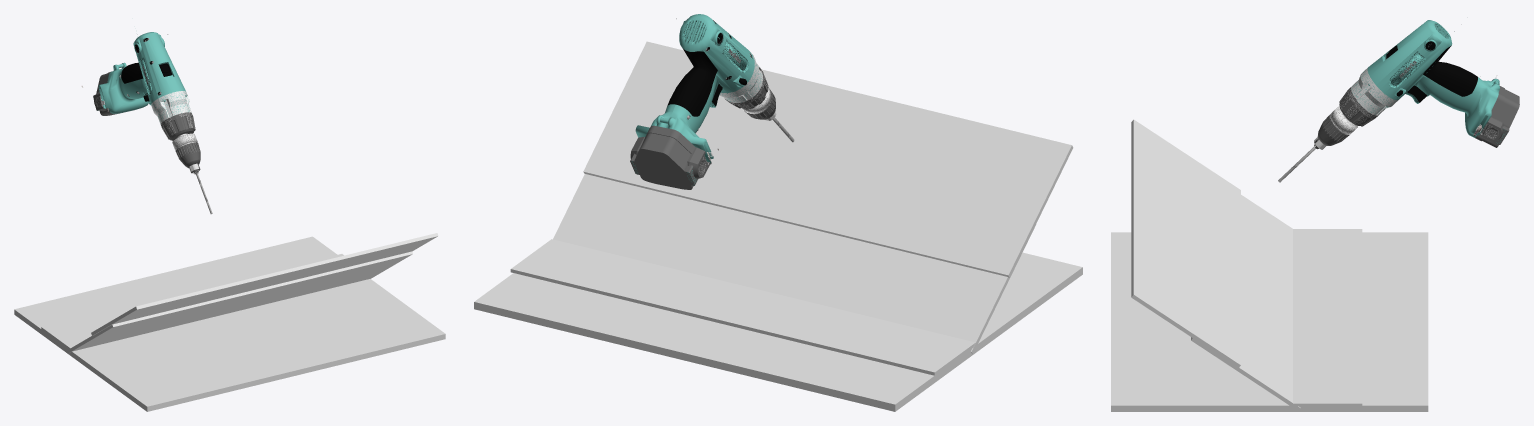
Rendered from PEÇA-05.dae.
3 views of the same model, side by side, from view 1: azimuth 30°, elevation 25°; view 2: azimuth 150°, elevation 25°; view 3: azimuth 270°, elevation 25° (orthographic). The views are drawn at different scales.
Visible parts, largest first — view 1: Cube, Cube.001, Cube.002, group_28.001, Cube.003, group_25, group_27.003, group_26; view 2: Cube.002, Cube.001, Cube, Cube.003, group_28.001, group_16, group_28.003, group_25; view 3: Cube, Cube.002, Cube.003, Cube.001, group_28.001, group_28.003, group_25, group_16, group_26.001, group_27.003, group_27.001.
Boxes of the visible parts, box(x1,y1,x2,y2) form: Cube: box(14, 236, 445, 411); Cube.001: box(67, 251, 412, 353); Cube.002: box(91, 233, 438, 335); group_28.001: box(98, 32, 185, 113); Cube.003: box(41, 254, 343, 349); group_25: box(151, 91, 191, 124); group_27.003: box(175, 142, 200, 168); group_26: box(163, 114, 195, 140); Cube.002: box(583, 41, 1073, 277); Cube.001: box(553, 174, 1036, 354); Cube: box(474, 252, 1082, 411); Cube.003: box(510, 239, 975, 375); group_28.001: box(635, 14, 754, 163); group_16: box(634, 133, 693, 189); group_28.003: box(667, 48, 715, 116); group_25: box(719, 52, 762, 102); Cube: box(1111, 232, 1428, 411); Cube.002: box(1131, 119, 1240, 367); Cube.003: box(1293, 229, 1362, 406); Cube.001: box(1191, 195, 1300, 410); group_28.001: box(1367, 20, 1499, 137); group_28.003: box(1424, 45, 1477, 96); group_25: box(1351, 68, 1398, 115); group_16: box(1482, 89, 1519, 147); group_26.001: box(1339, 87, 1378, 126); group_27.003: box(1317, 115, 1348, 145); group_27.001: box(1330, 106, 1357, 134).
Size of the model in its own units: 0.6055 by 0.5956 by 0.4873.
